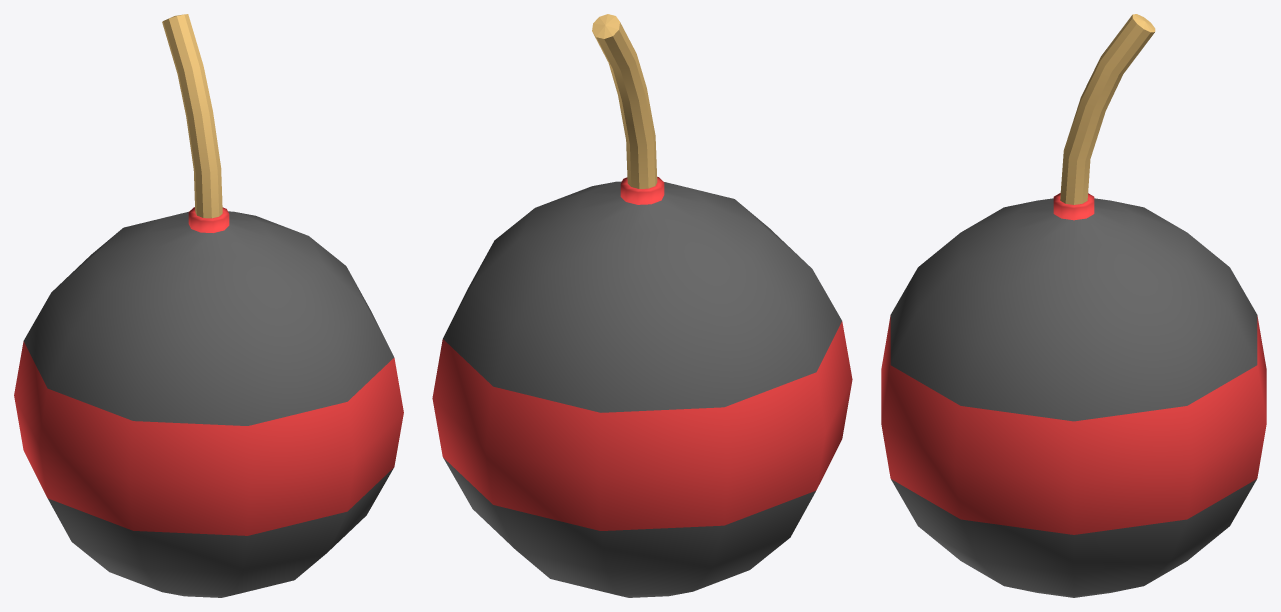
The model's file is Bomb_2.fbx.
3 views of the same model, side by side, from view 1: azimuth 30°, elevation 25°; view 2: azimuth 150°, elevation 25°; view 3: azimuth 270°, elevation 25° (orthographic). The views are drawn at different scales.
Visible parts, largest first — view 1: pSphere4; view 2: pSphere4; view 3: pSphere4.
Boxes of the visible parts, box(x1,y1,x2,y2) form: pSphere4: box(14, 14, 403, 597); pSphere4: box(432, 14, 852, 597); pSphere4: box(881, 14, 1266, 597).
Size of the model in its own units: 75.29 by 116 by 71.6.
